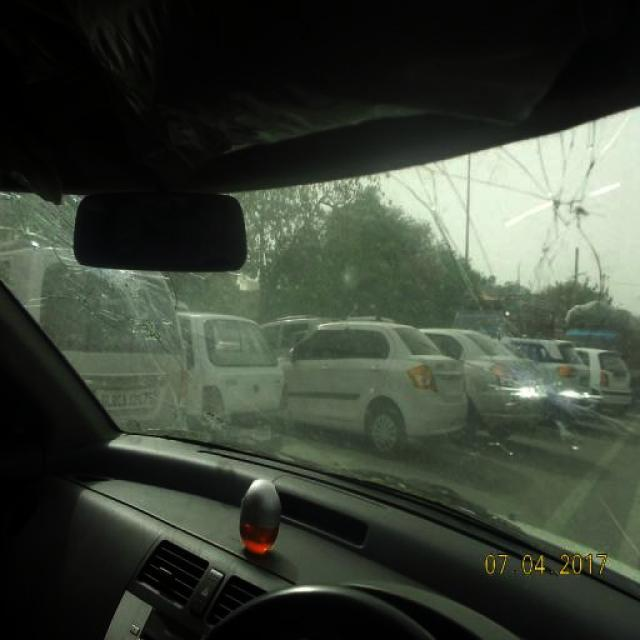car damage: (47, 216, 190, 358), (518, 147, 610, 290)
